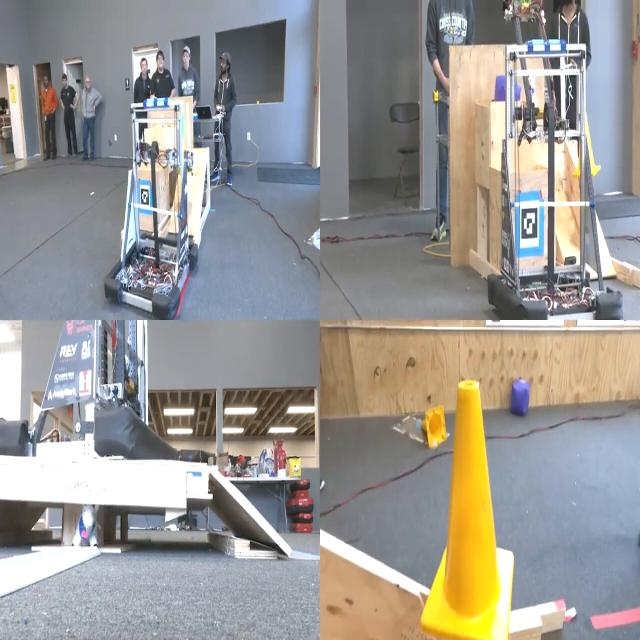frc_cone: (432, 380, 504, 640), (573, 111, 600, 185), (423, 411, 448, 447)
frc_cube: (494, 72, 521, 110), (509, 379, 528, 418)
